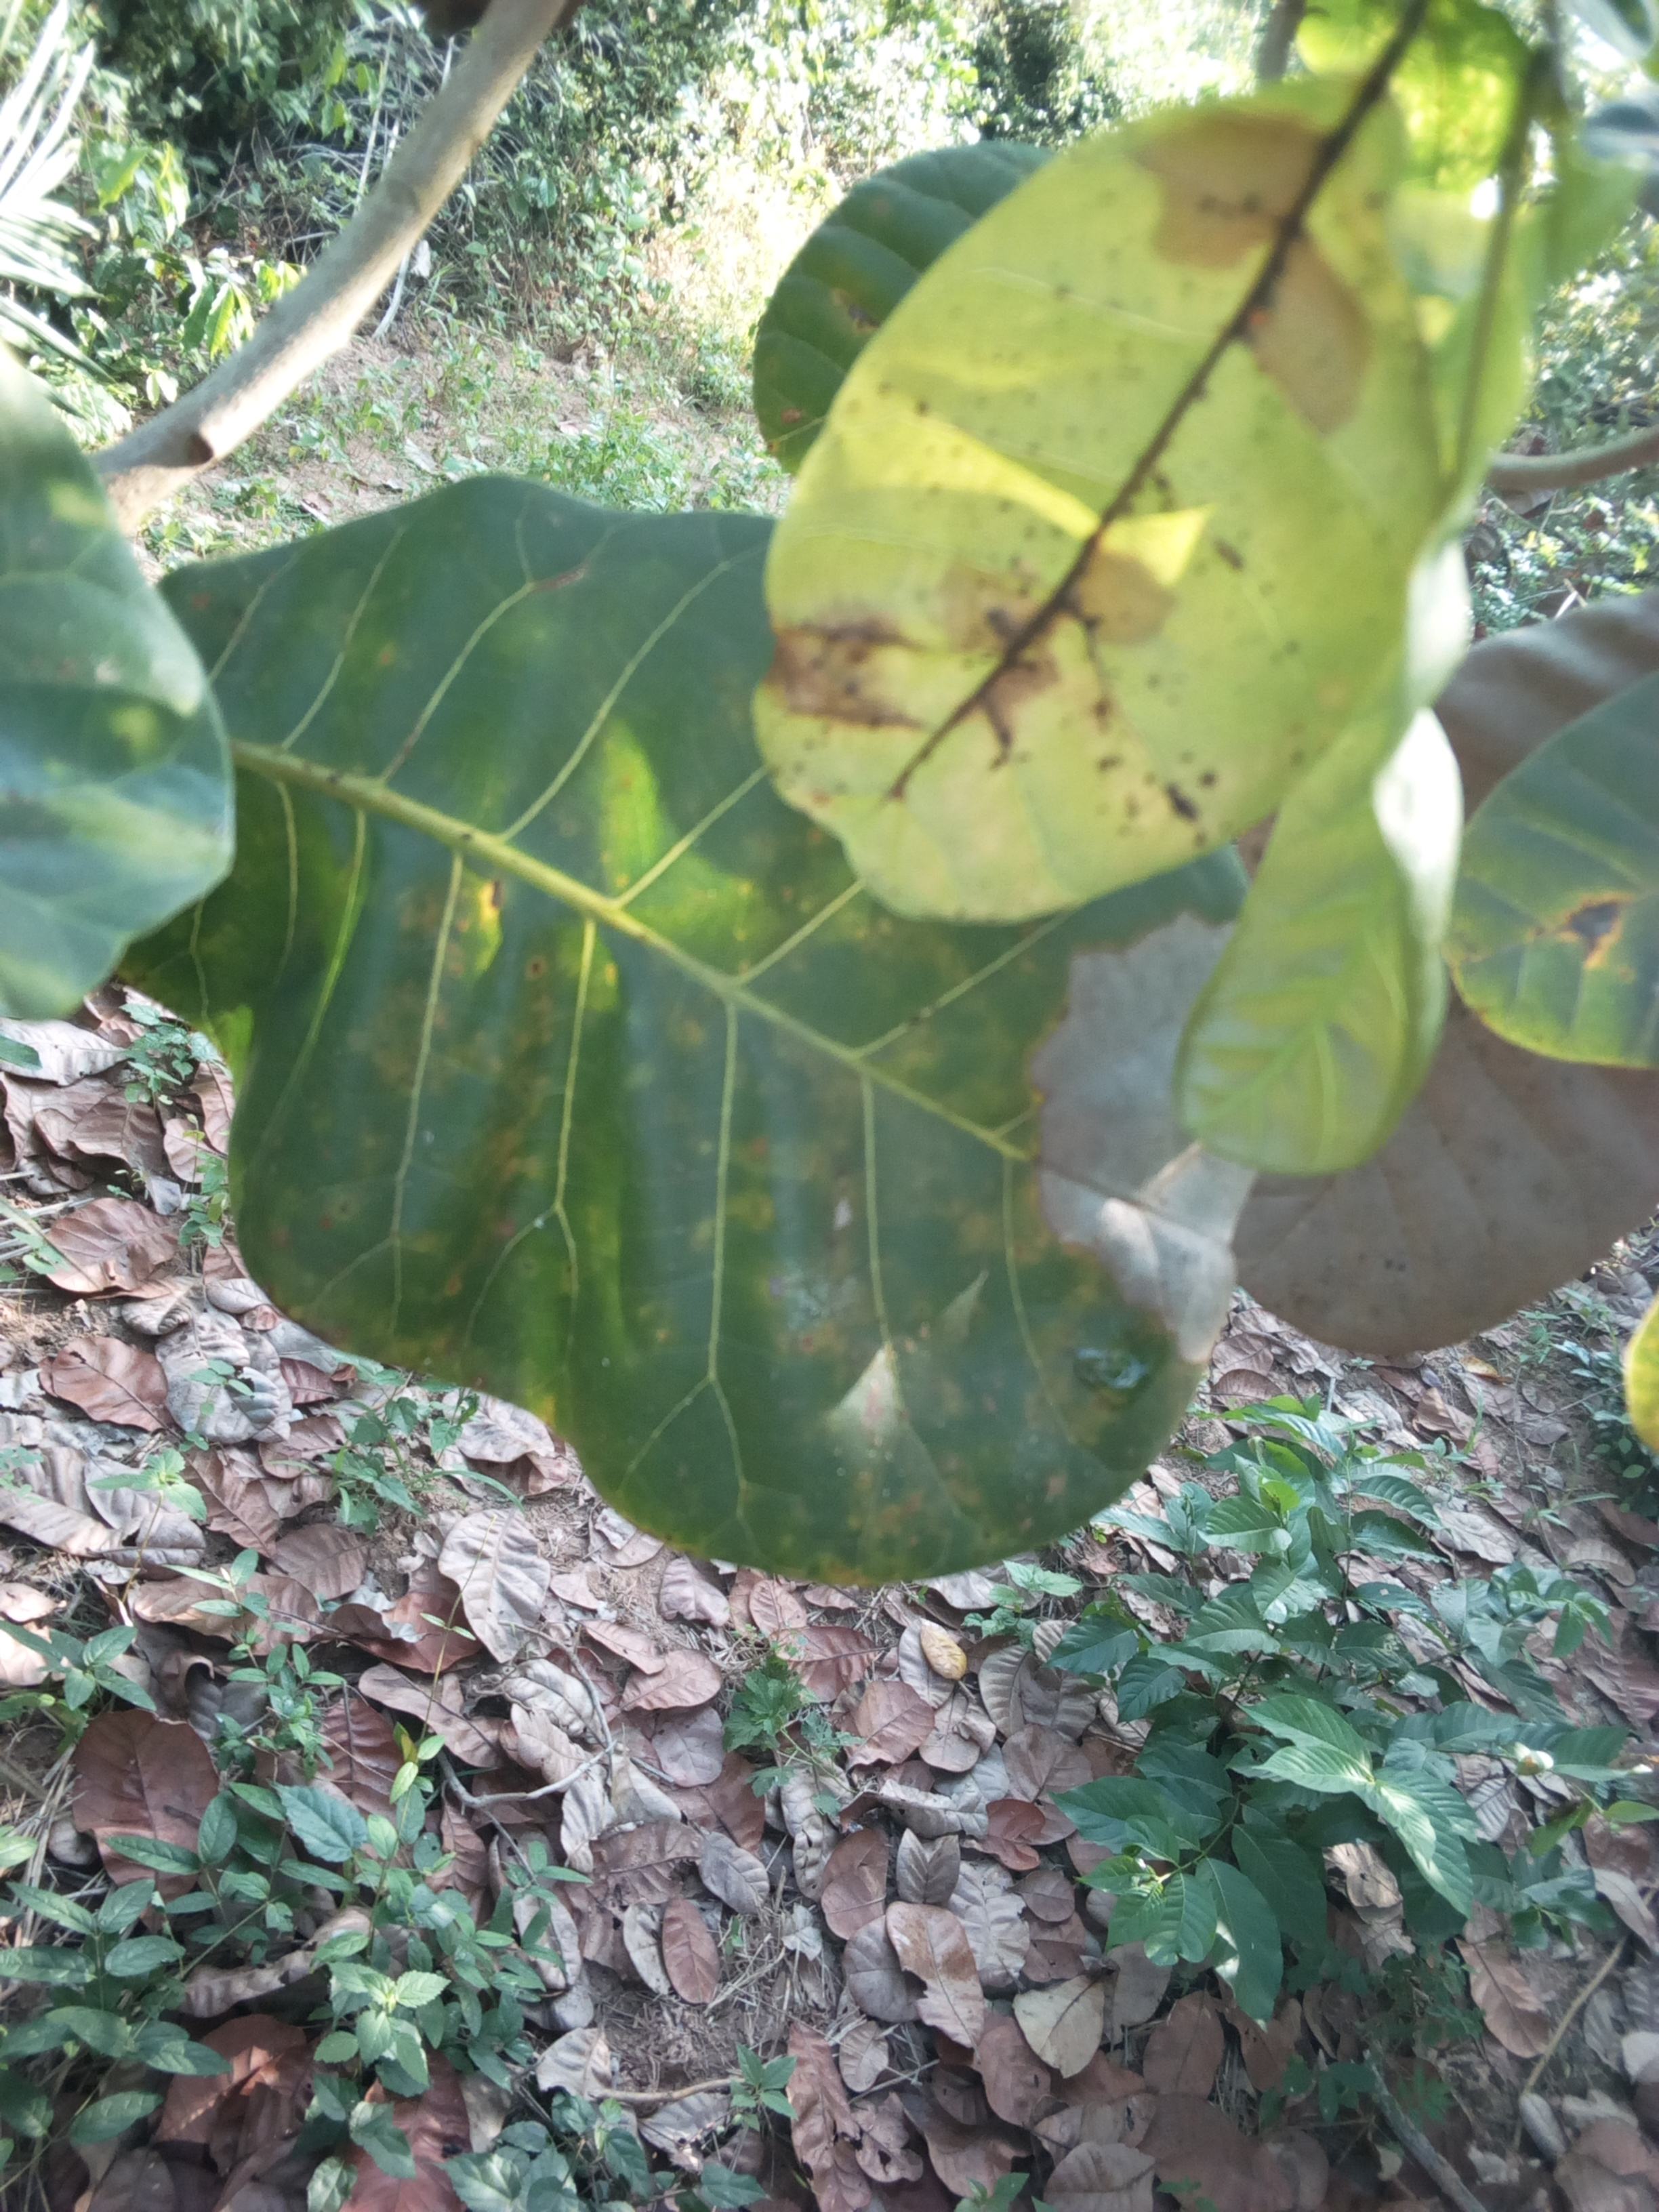Alternariose: (199, 479, 1281, 1573), (772, 82, 1406, 909)
